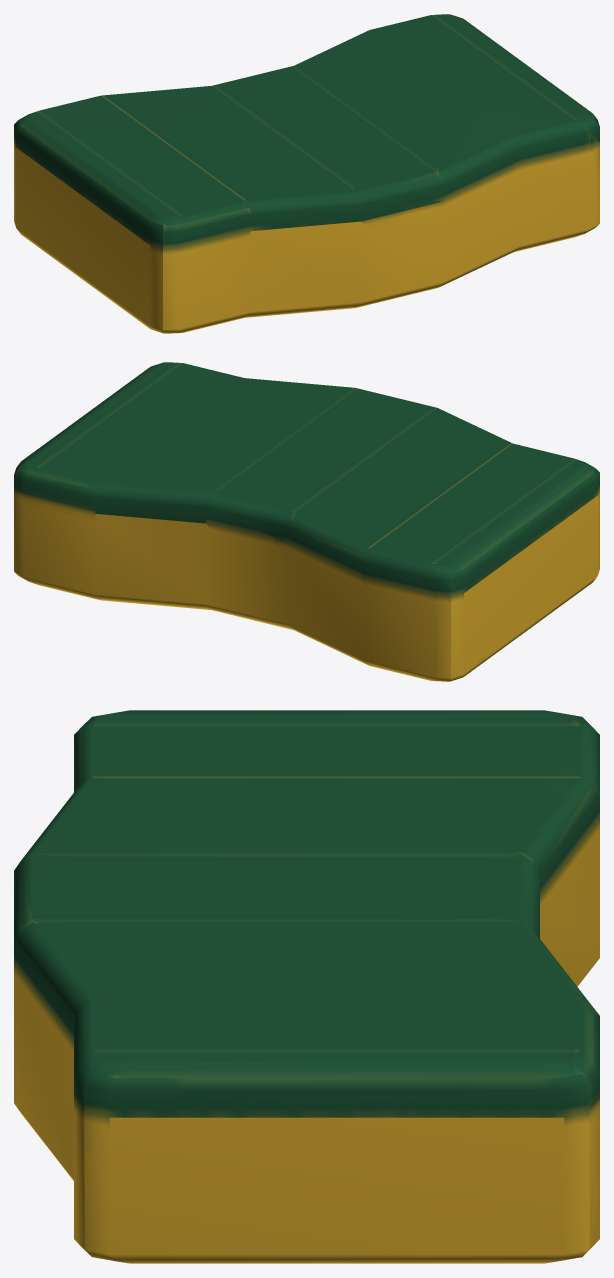
File: sponge.glb
The picture shows the model from 3 angles, top to bottom: view 1: azimuth 30°, elevation 25°; view 2: azimuth 150°, elevation 25°; view 3: azimuth 270°, elevation 25°; orthographic projection. The views are drawn at different scales.
Parts seen in each view (by area): view 1: mesh; view 2: mesh; view 3: mesh.
Boxes of the visible parts, left/top/right/bottom form: mesh: left=14, top=14, right=599, bottom=333; mesh: left=14, top=362, right=599, bottom=681; mesh: left=14, top=710, right=599, bottom=1263.
Size of the model in its own units: 0.192 by 0.048 by 0.1283.
Materials: 1 (1 with a texture image).
